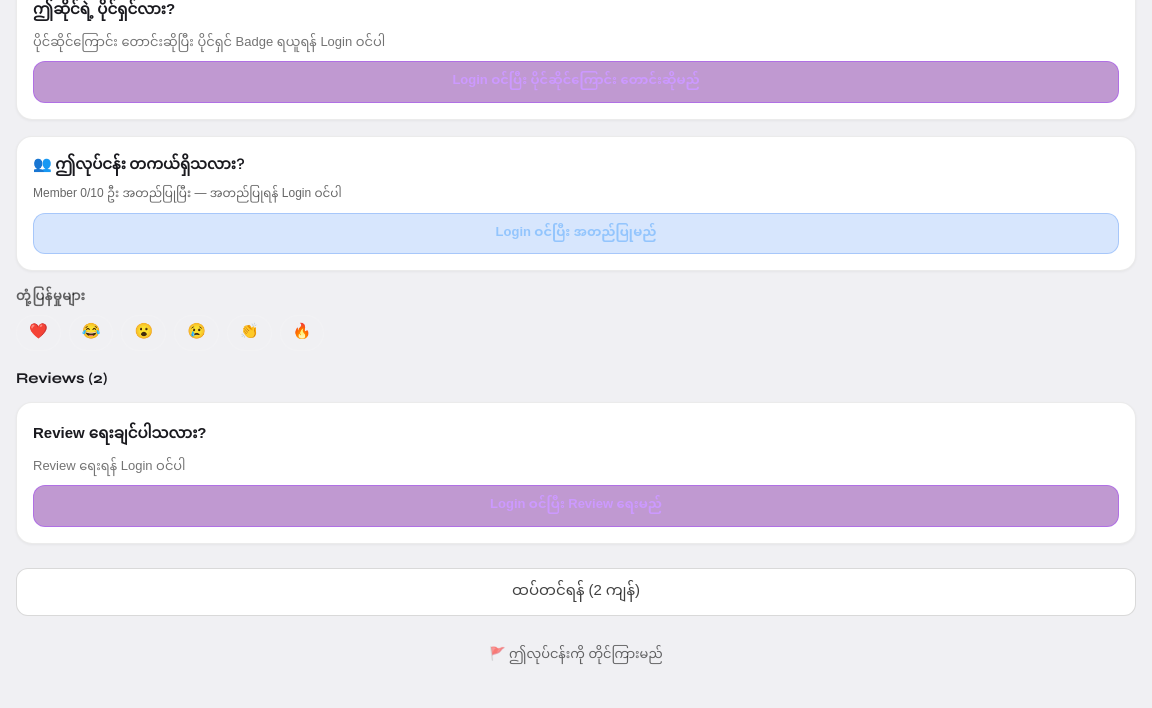
Test: v9.41 CORRECTION 2 — listing Report flow in Burmese (တိုင်ကြား) › submitting toasts "တိုင်ကြားပြီးပါပြီ — Admin မှ စစ်ဆေးမည်" and shows the တိုင်ကြားပြီးပါပြီ done-state
(page scrolled)
Click the button "🚩 ဤလုပ်ငန်းကို တိုင်ကြားမည်".
click(576, 654)  # box [16, 632, 1136, 676]
(page scrolled)
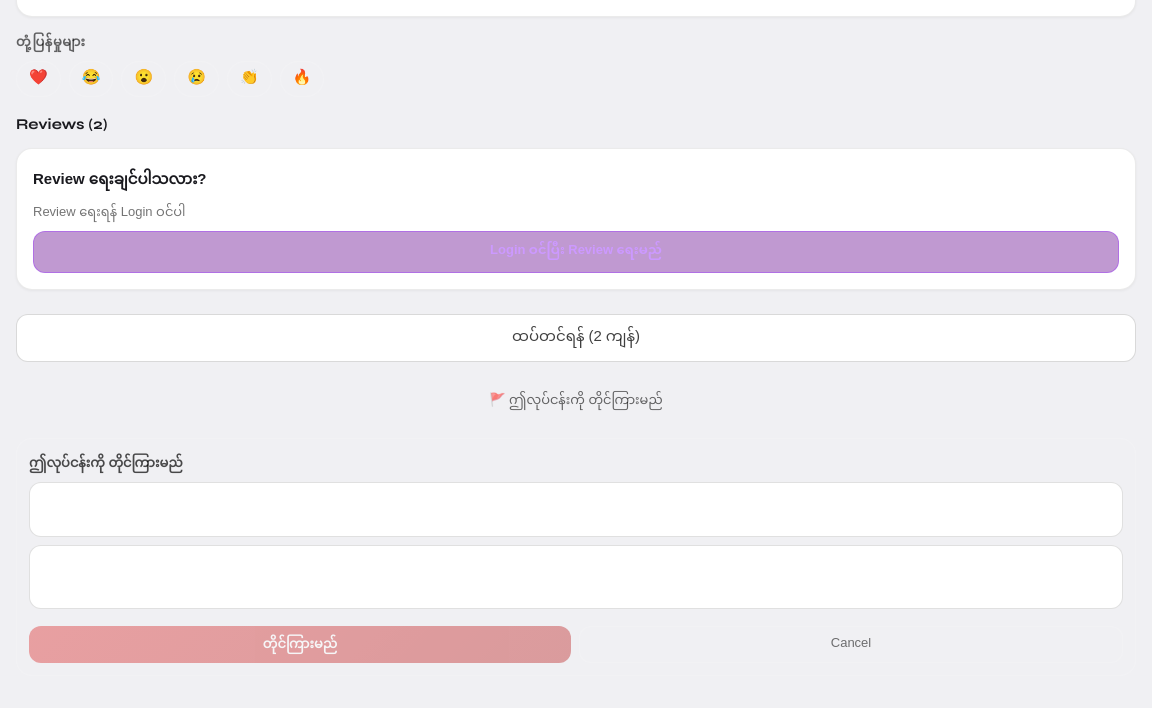
Result: the text "ဤလုပ်ငန်းကို တိုင်ကြားမည်" is shown at [29, 455, 183, 470]
Type "ဆိုင်ပိတ်သွားပြီ" into the field with placeholder "တိုင်ကြားရသည့် အကြောင်းရင်း...".
click(576, 510); type("ဆိုင်ပိတ်သွားပြီ")  # box [29, 482, 1123, 537]
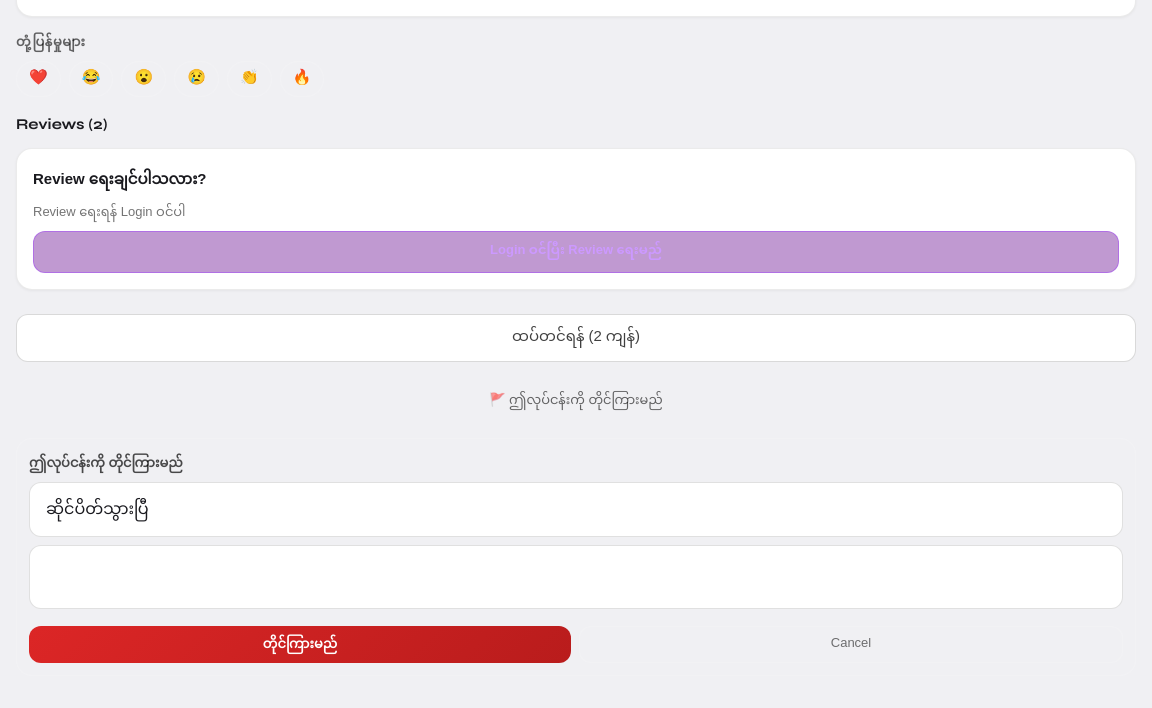
Click the button "တိုင်ကြားမည်".
click(300, 645)  # box [29, 626, 571, 664]
(page scrolled)
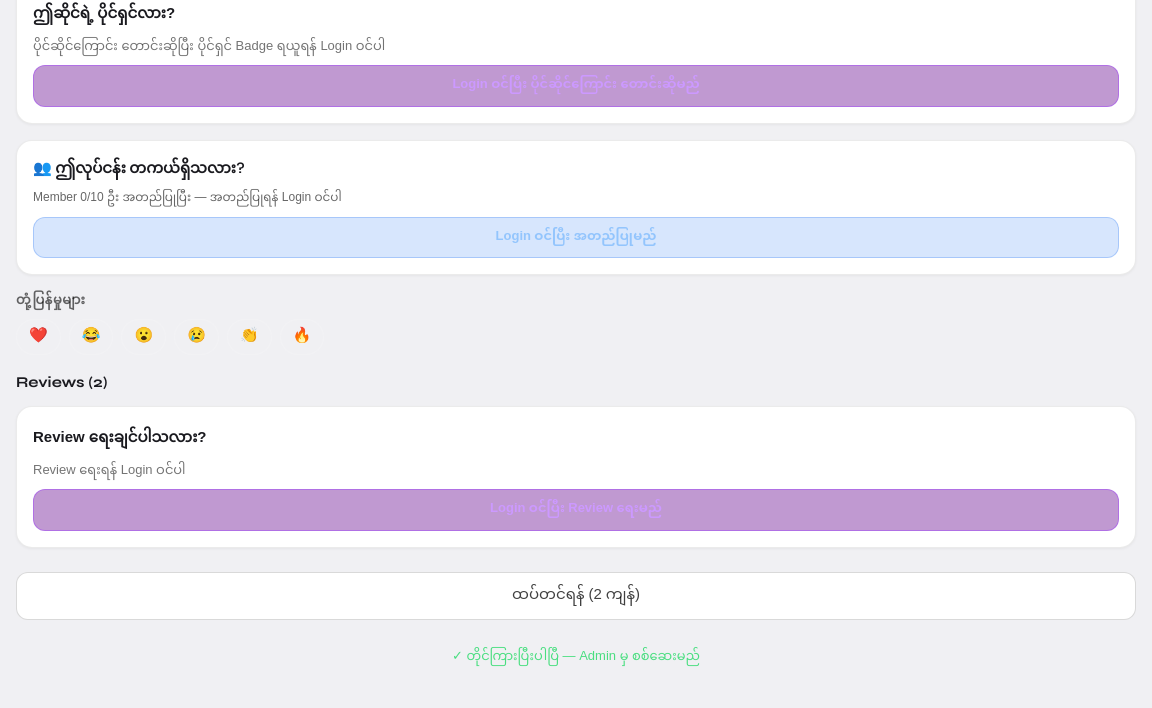
Result: the text "✓ တိုင်ကြားပြီးပါပြီ — Admin မှ စစ်ဆေးမည်" is shown at [452, 648, 700, 663]
